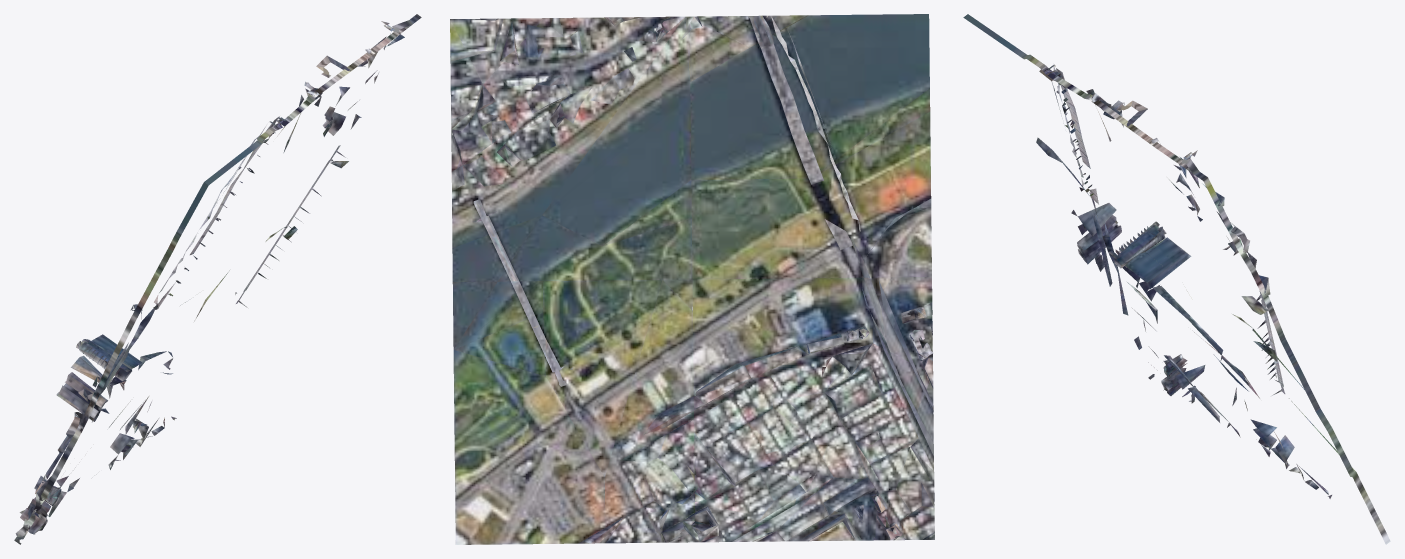
The picture shows the model from 3 angles, left to right: view 1: azimuth 30°, elevation 25°; view 2: azimuth 150°, elevation 25°; view 3: azimuth 270°, elevation 25°; orthographic projection. The views are drawn at different scales.
Size of the model in its own units: 1229 by 1137 by 1038.
1 material, 1 textured.
